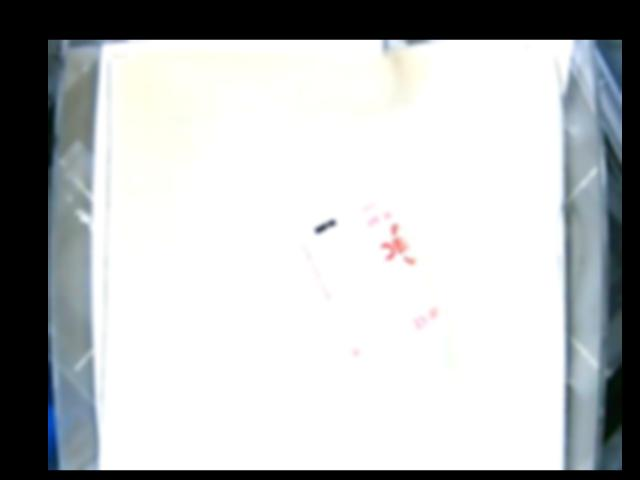Bottle: (300, 194, 448, 400)
